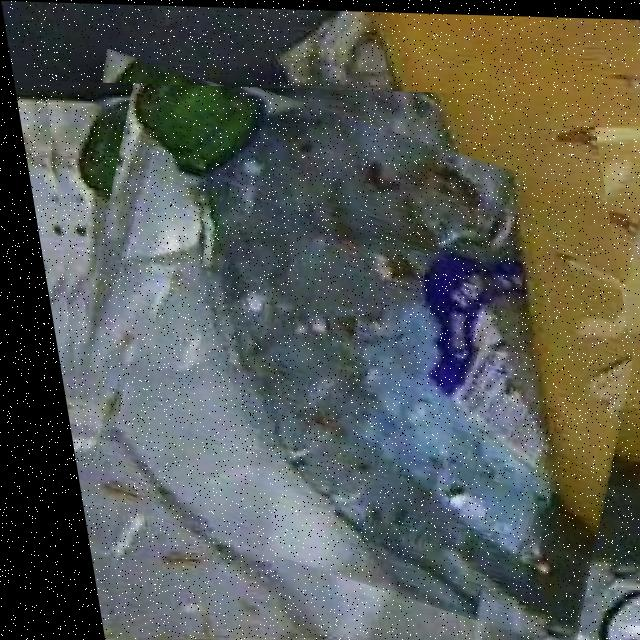litter: (10, 79, 640, 617)
